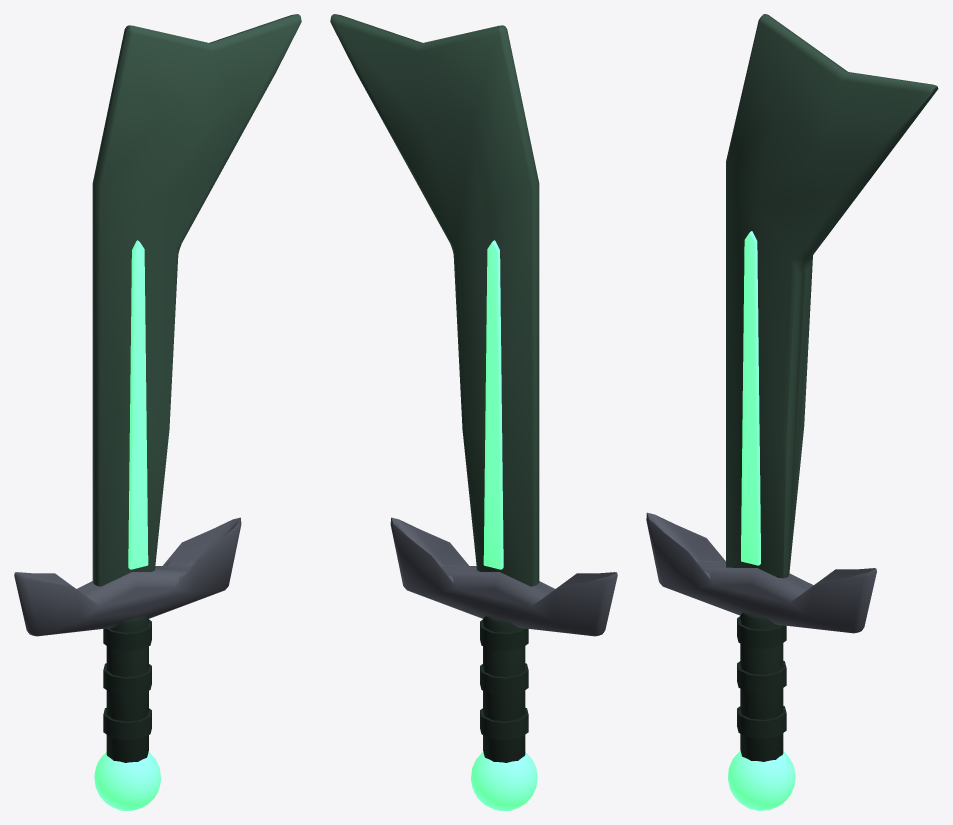
The model's file is reaver.glb.
3 views of the same model, side by side, from view 1: azimuth 30°, elevation 25°; view 2: azimuth 150°, elevation 25°; view 3: azimuth 330°, elevation 25° (orthographic).
Parts seen in each view (by area): view 1: wpn_reaver; view 2: wpn_reaver; view 3: wpn_reaver.
Boxes of the visible parts, <box> form: wpn_reaver: <box>14,14,301,810</box>; wpn_reaver: <box>330,14,617,810</box>; wpn_reaver: <box>646,14,938,810</box>.
Bounding box in the file's own units: 0.686 × 1.8 × 0.14.
